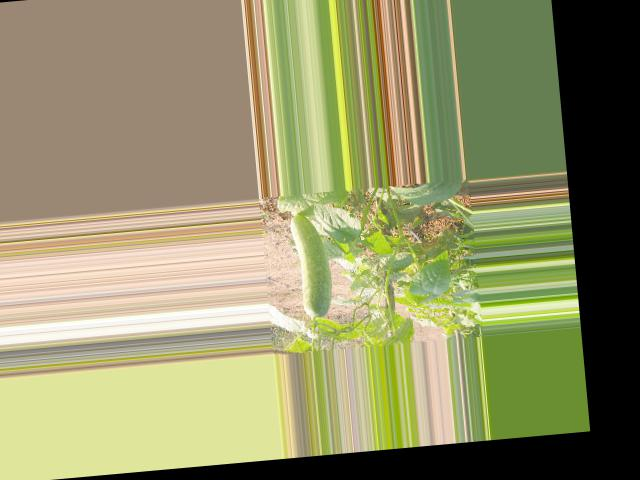cucumber: (289, 212, 334, 318)
